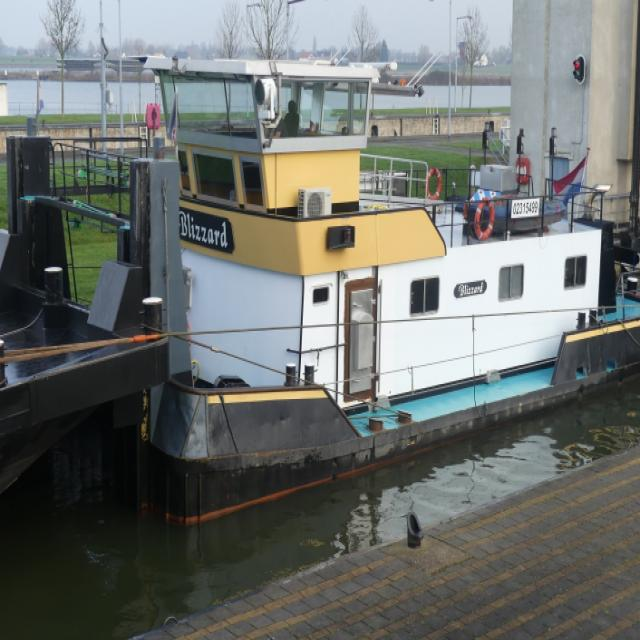tugboat: (1, 48, 640, 545)
